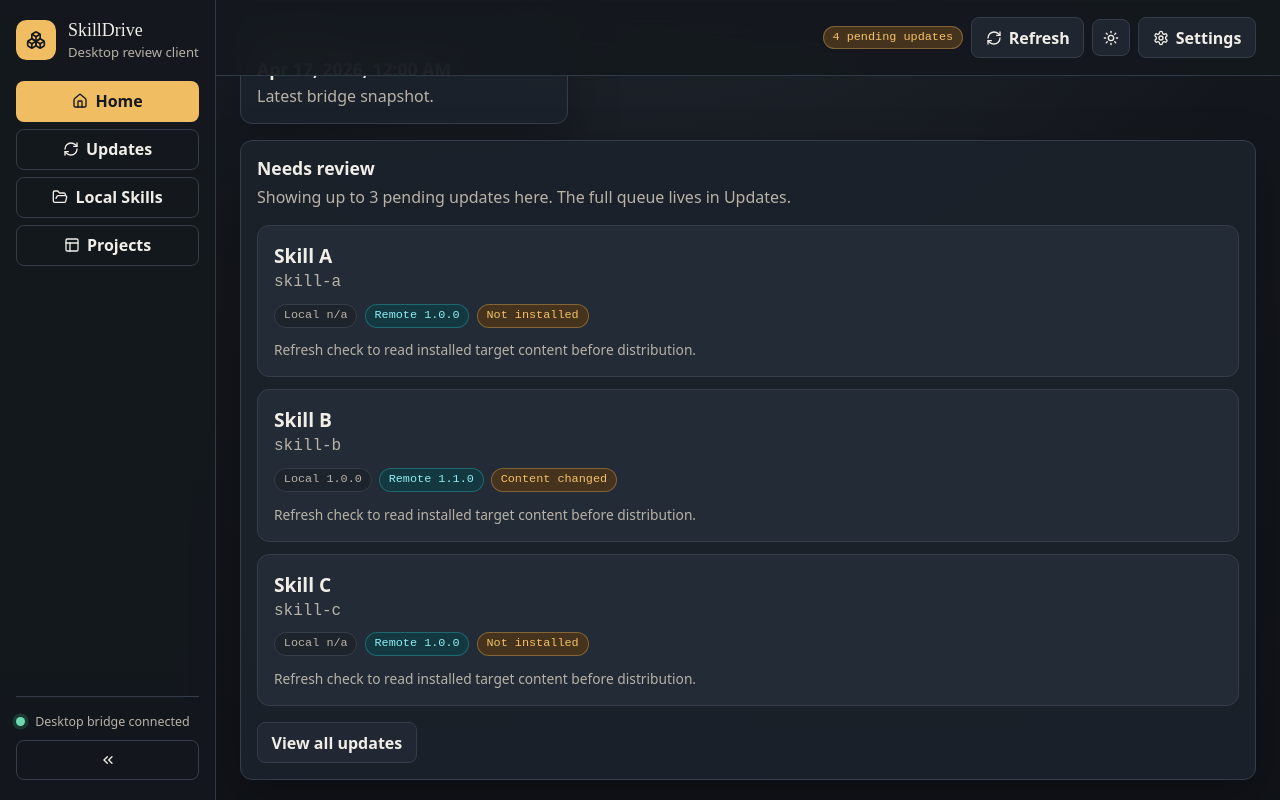
Test: App › keeps the home page focused and moves the full queue to Updates
This screenshot has width=1280, height=800.
(page scrolled)
Expected: the heading "Needs review" is shown, [257,156,375,180]
Expected: the heading "Skill A" is shown, [274,242,341,269]
Click the button "View all updates": (337, 743) [257,722,417,763]
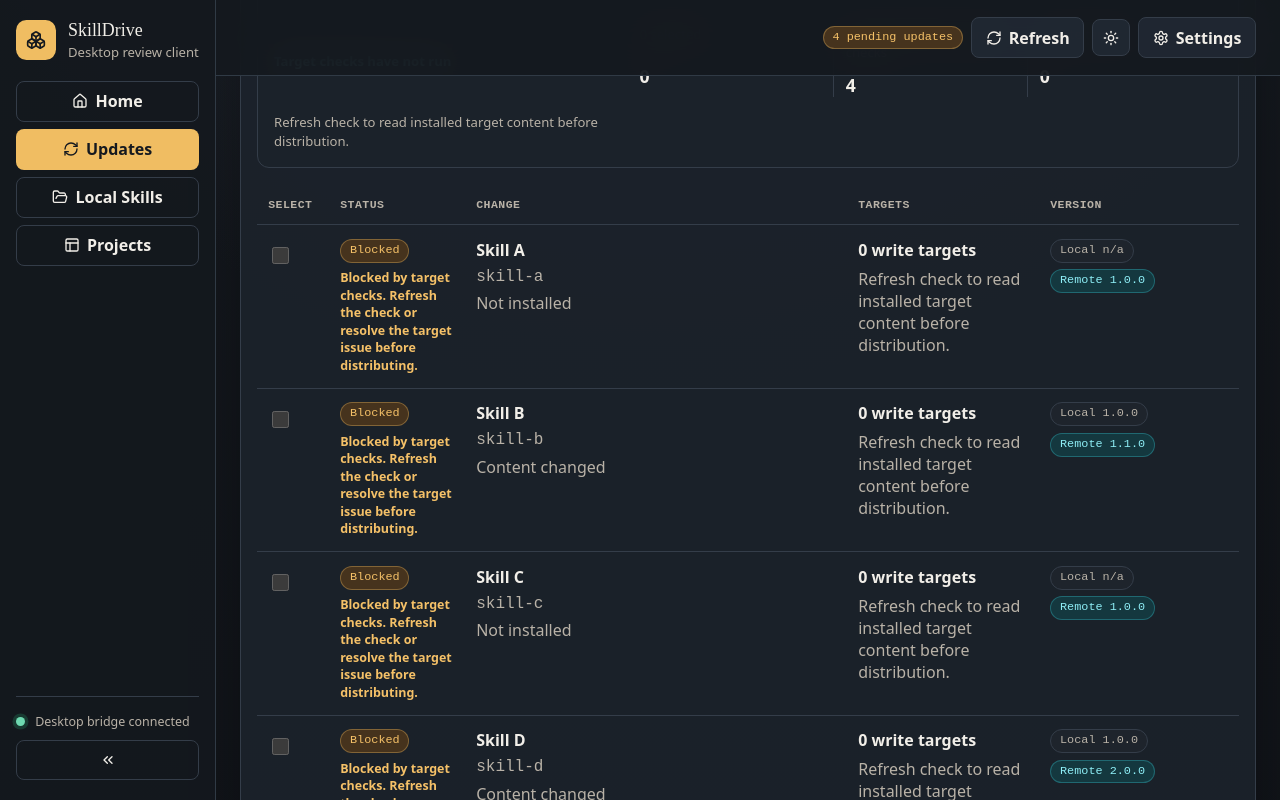
Now the text "Skill D" is shown, box [476,729,526,751]
